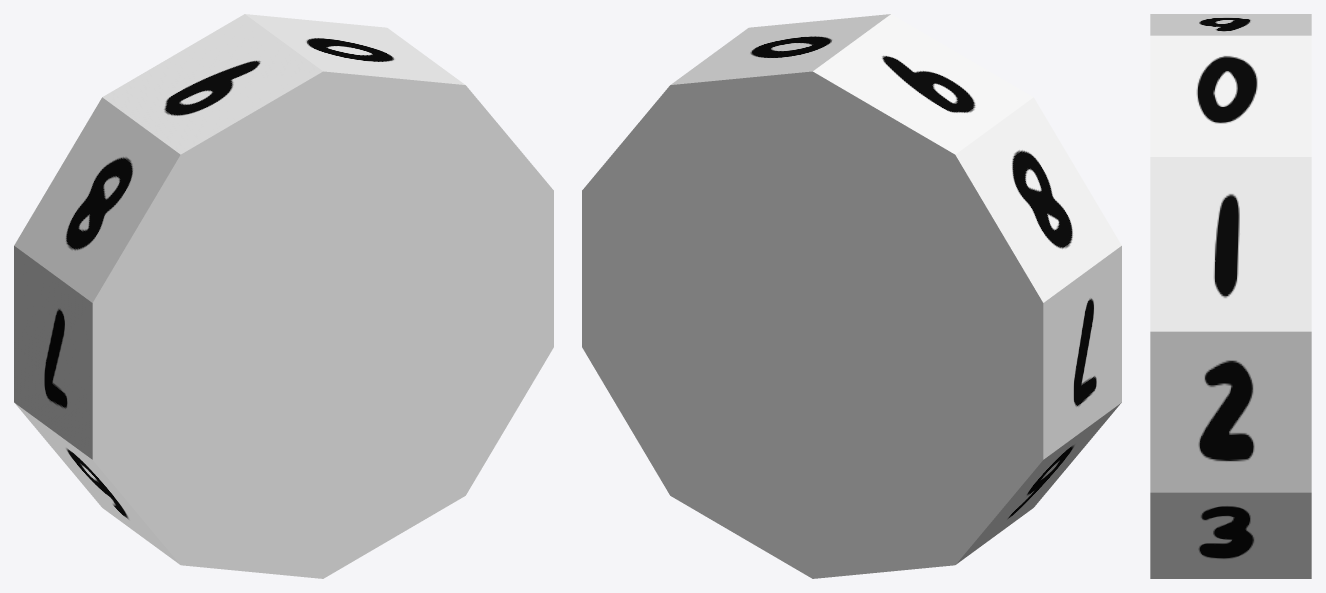
Rendered from lock.fbx.
3 renders of one model, left to right at view 1: azimuth 30°, elevation 25°; view 2: azimuth 150°, elevation 25°; view 3: azimuth 270°, elevation 25°, orthographic. The views are drawn at different scales.
Parts seen in each view (by area): view 1: Cylinder; view 2: Cylinder; view 3: Cylinder.
Part boxes in pixels (box(x1,y1,x2,y2)): Cylinder: box(14, 14, 553, 578); Cylinder: box(582, 14, 1121, 578); Cylinder: box(1150, 14, 1311, 578).
Bounding box in the file's own units: 190 × 200 × 56.08.
